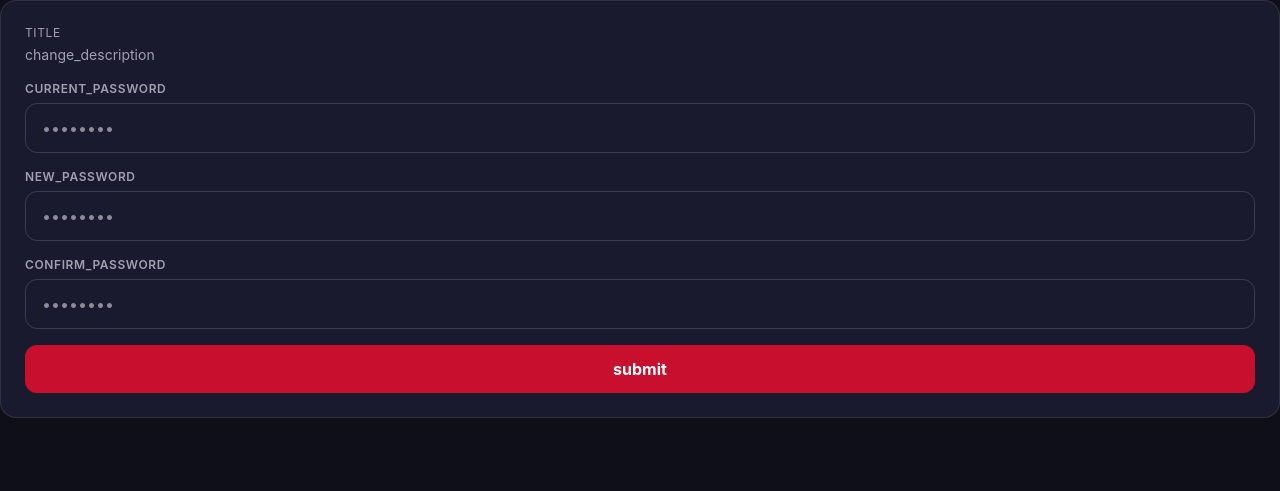
Scenario: PasswordSection › surfaces a server-side error message in the form
The width and height of the screenshot is (1280, 491).
Type "wrong" into the password field with placeholder "••••••••" below "current_password".
click(640, 128); type("wrong")  # box [25,103,1255,153]
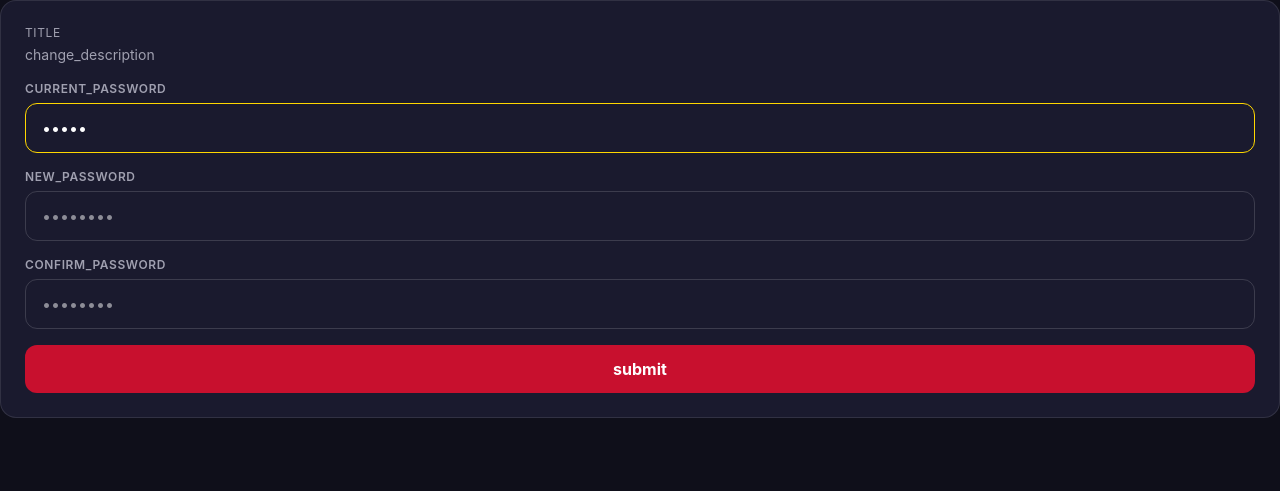
Type "newSecret123" into the password field with placeholder "••••••••" below "new_password".
click(640, 216); type("newSecret123")  # box [25,191,1255,241]
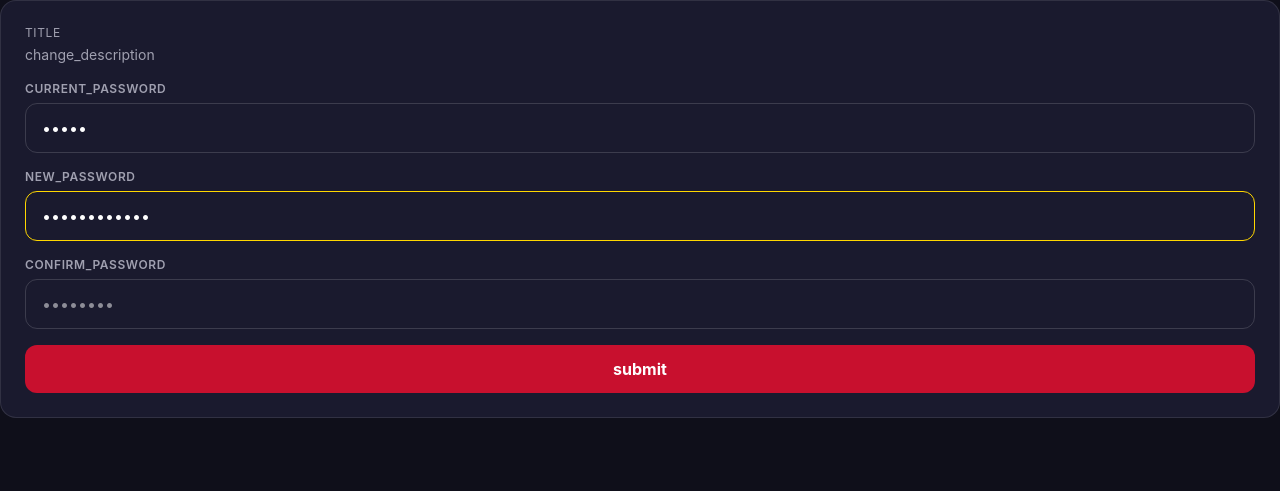
Type "newSecret123" into the password field with placeholder "••••••••".
click(640, 304); type("newSecret123")  # box [25,279,1255,329]
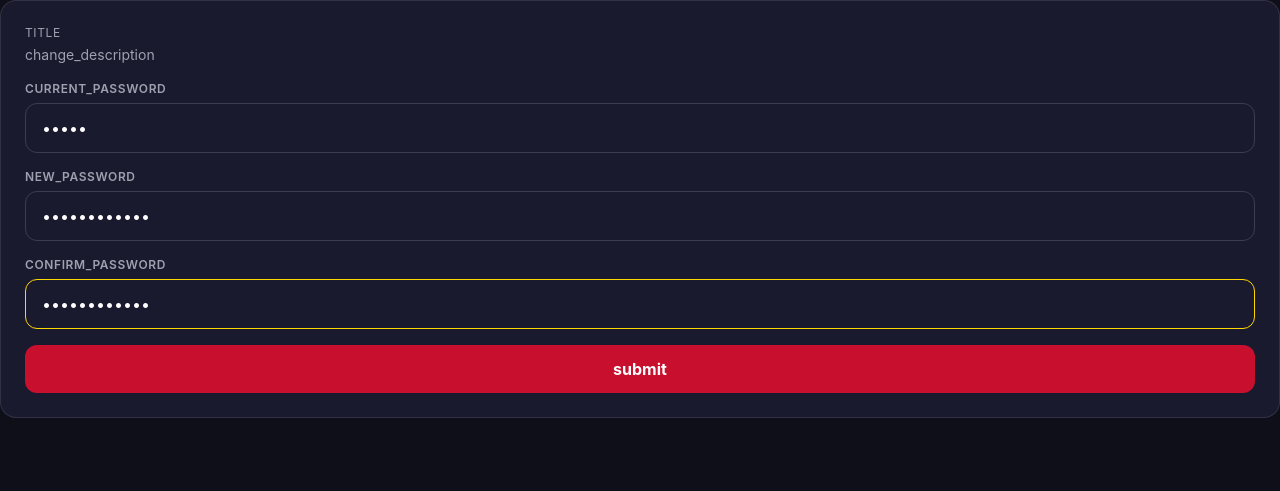
Click the button "submit".
click(640, 369)  # box [25,345,1255,393]
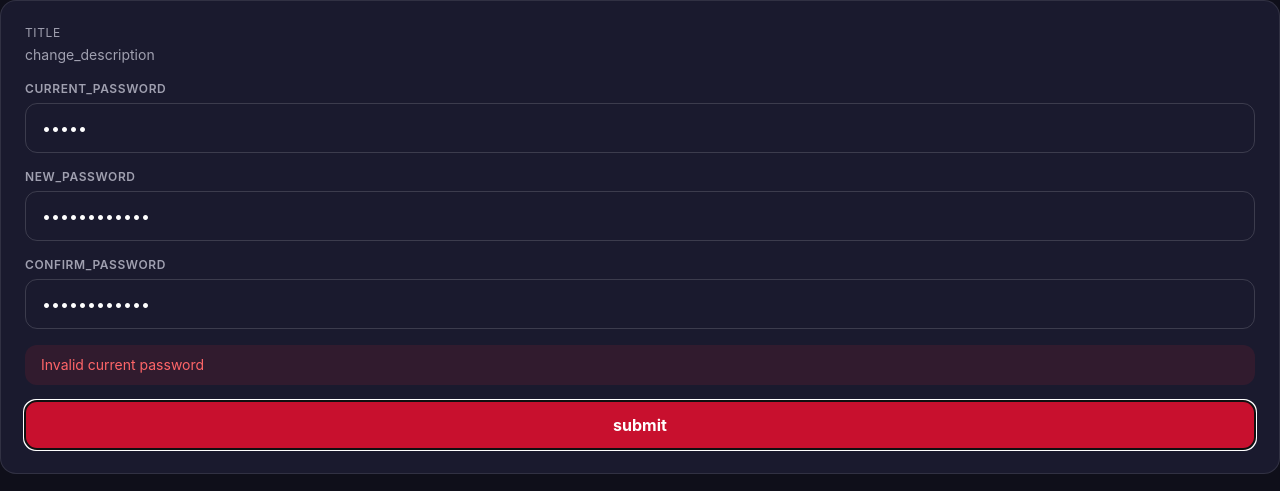
Result: the text "Invalid current password" is shown at [25,345,1255,385]
